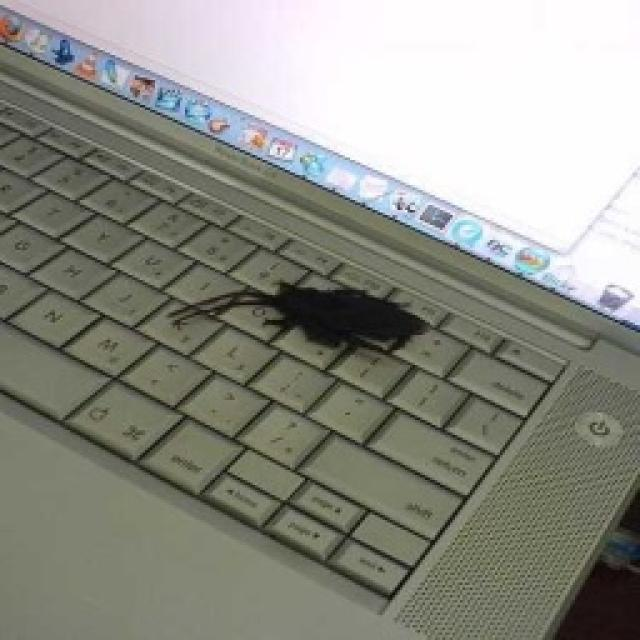cockroach: (163, 275, 431, 359)
